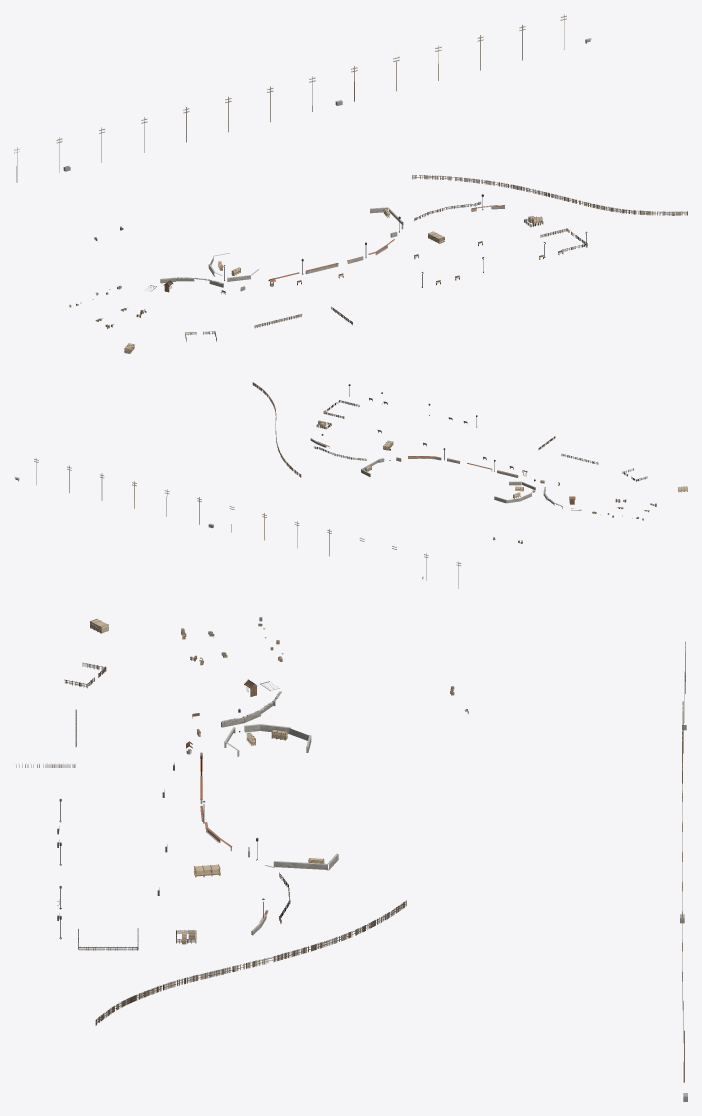
Rendered from scenery_details.glb.
3 renders of one model, top to bottom at view 1: azimuth 30°, elevation 25°; view 2: azimuth 150°, elevation 25°; view 3: azimuth 270°, elevation 25°, orthographic. The views are drawn at different scales.
Visible parts, largest first — view 1: SCN_fences, SCN_furniture, SCN_walls, SCN_props; view 2: SCN_walls, SCN_fences, SCN_furniture, SCN_props; view 3: SCN_fences, SCN_walls, SCN_props, SCN_furniture.
Boxes of the visible parts, bbox=[...] form: SCN_fences: bbox=[185, 175, 687, 341]; SCN_furniture: bbox=[14, 14, 591, 294]; SCN_walls: bbox=[160, 205, 504, 291]; SCN_props: bbox=[69, 208, 542, 353]; SCN_walls: bbox=[310, 438, 562, 509]; SCN_fences: bbox=[252, 382, 647, 481]; SCN_furniture: bbox=[14, 384, 559, 588]; SCN_props: bbox=[318, 420, 687, 543]; SCN_fences: bbox=[14, 662, 406, 1025]; SCN_walls: bbox=[196, 691, 338, 935]; SCN_props: bbox=[90, 617, 468, 944]; SCN_furniture: bbox=[57, 641, 687, 1101].
Bounding box in the file's own units: 0.8751 × 0.0445 × 0.5236.
Materials: 4 (4 with a texture image).
